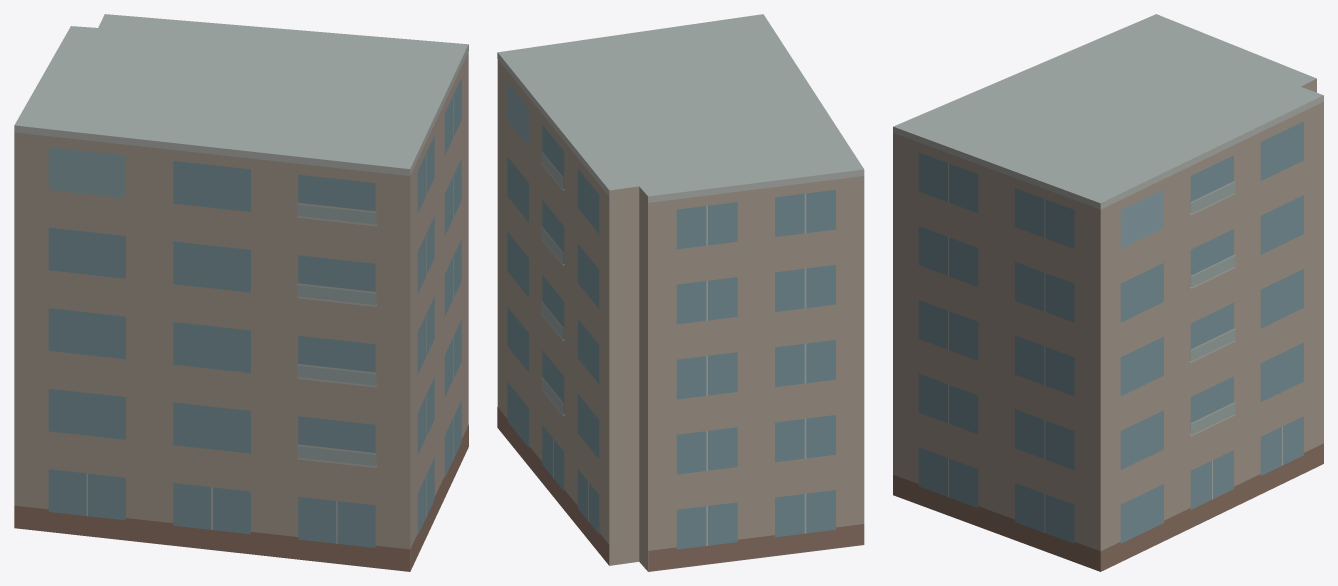
Rendered from survey-upis-32995028.glb.
3 renders of one model, left to right at view 1: azimuth 30°, elevation 25°; view 2: azimuth 150°, elevation 25°; view 3: azimuth 270°, elevation 25°, orthographic. The views are drawn at different scales.
Parts seen in each view (by area): view 1: survey-upis-32995028.tmp; view 2: survey-upis-32995028.tmp; view 3: survey-upis-32995028.tmp.
Boxes of the visible parts, x1,y1,x2,y2 form: survey-upis-32995028.tmp: (14, 14, 468, 571); survey-upis-32995028.tmp: (497, 14, 864, 571); survey-upis-32995028.tmp: (893, 14, 1323, 571).
Size of the model in its own units: 15.65 by 14.2 by 15.05.
